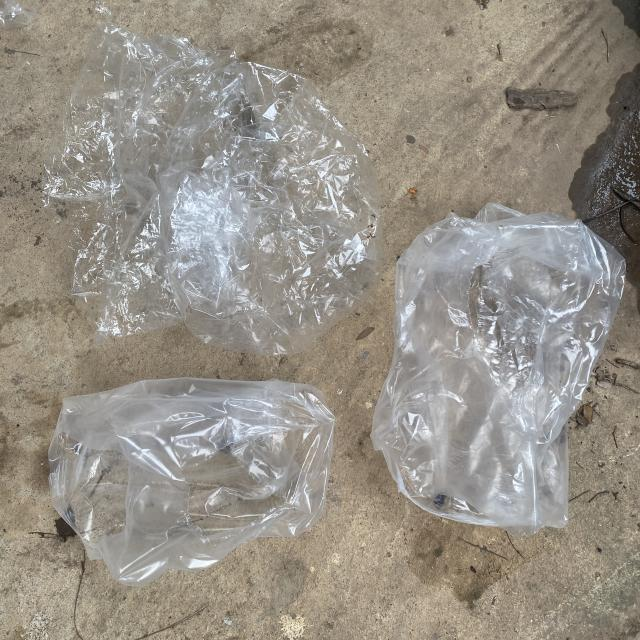Single-layer Plastic: (44, 22, 380, 355), (371, 204, 625, 535), (49, 378, 334, 586)
